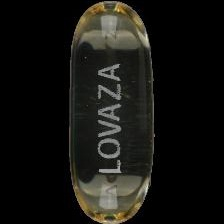0173-0783: (0, 0, 224, 224)
